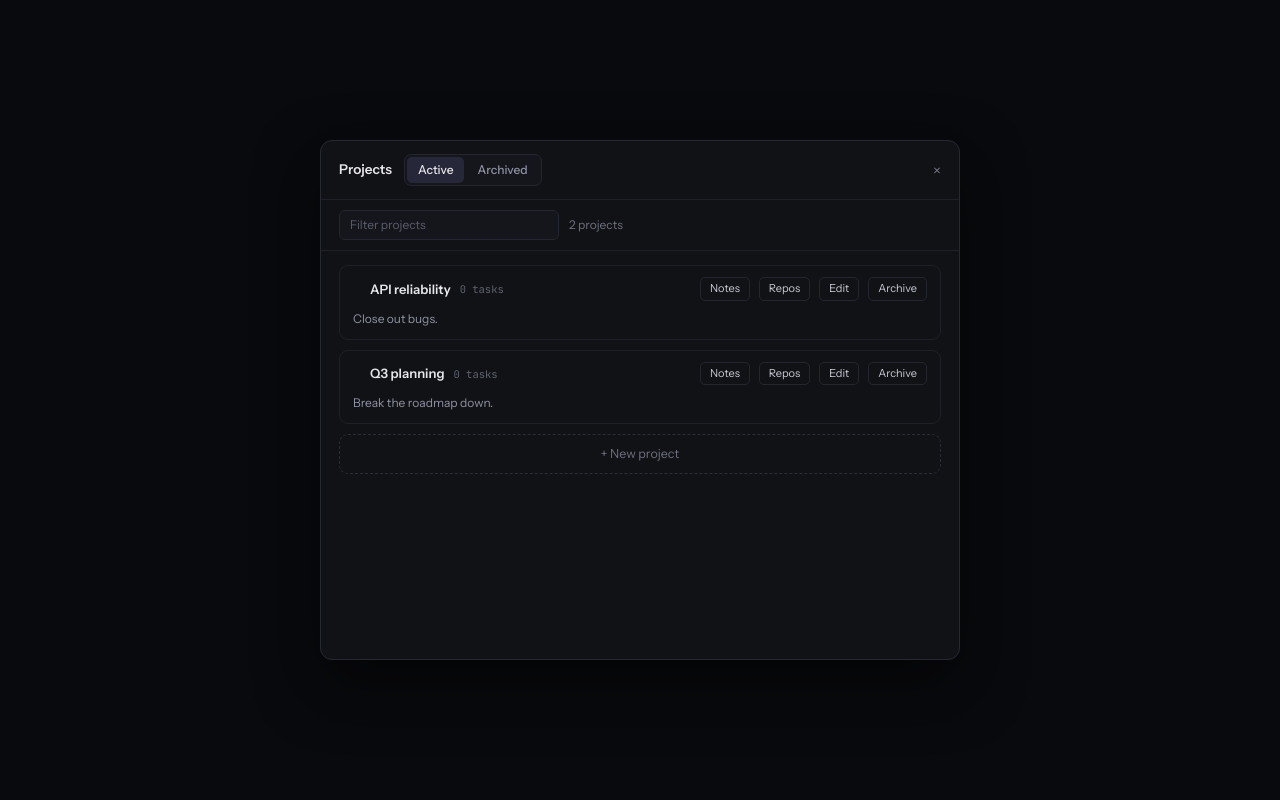
Scenario: the project notes editor › marks the file unsaved once edited, and Save clears it
Click the button "Notes" in the row of "API reliability" at (725, 289), box [700, 277, 750, 301]
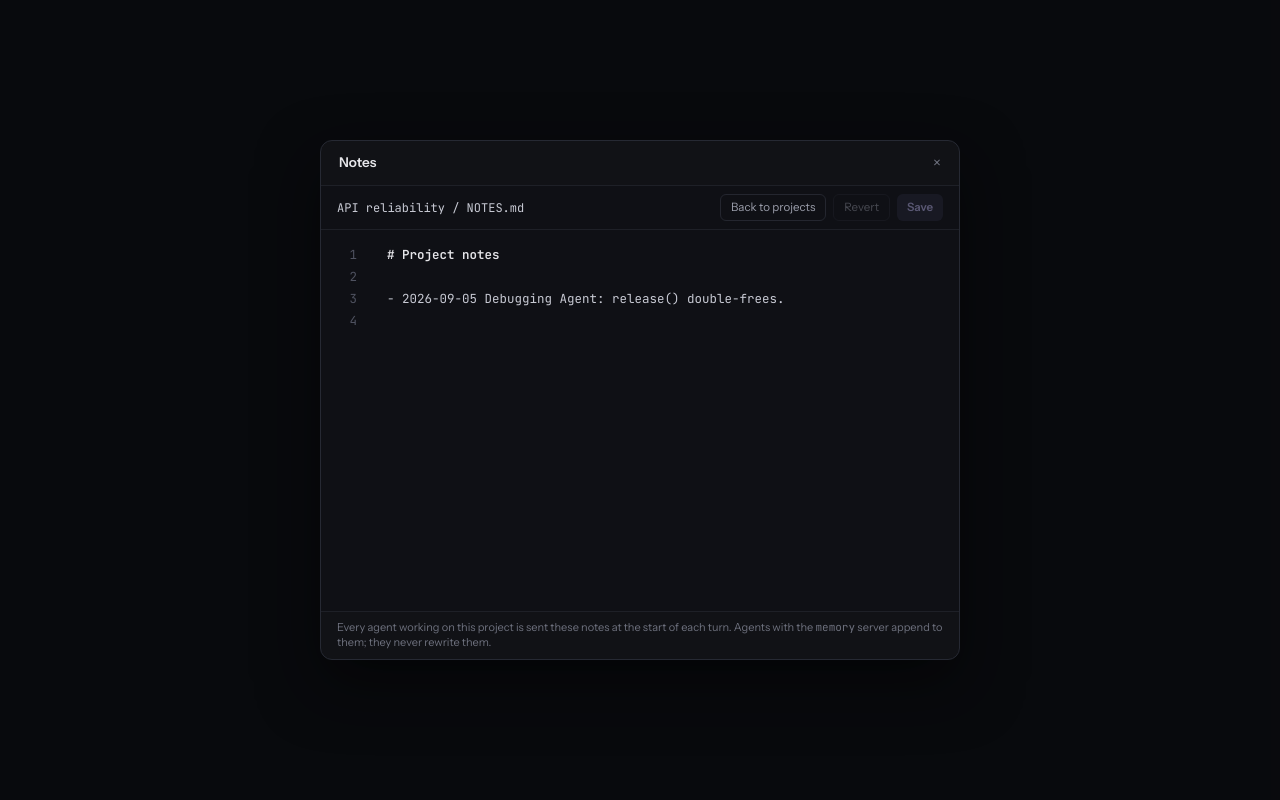
Expected: the text box named "Project notes" is shown
Type "x" into the text box named "Project notes" at (663, 288), box [367, 230, 959, 346]
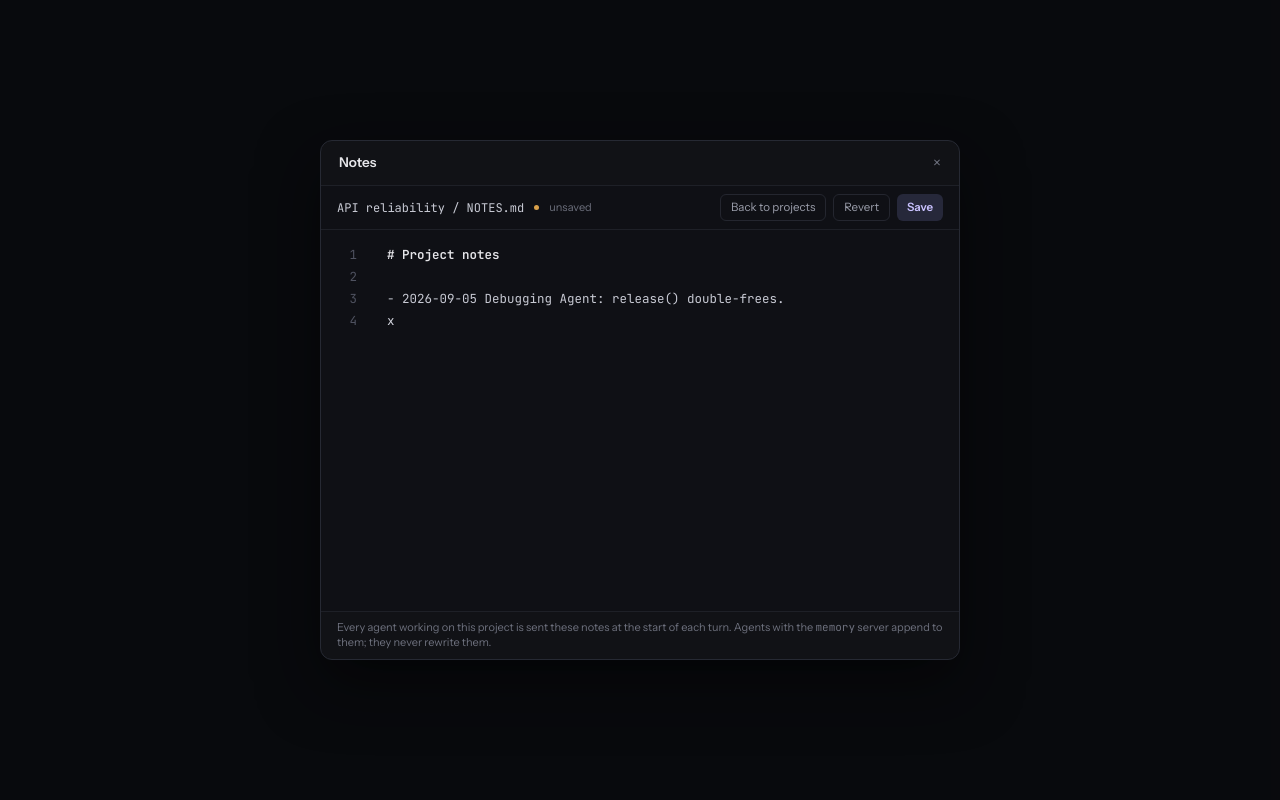
Expected: the text "unsaved" is shown, [549, 200, 592, 216]
Click the button "Save" at (920, 208), box [897, 194, 943, 221]
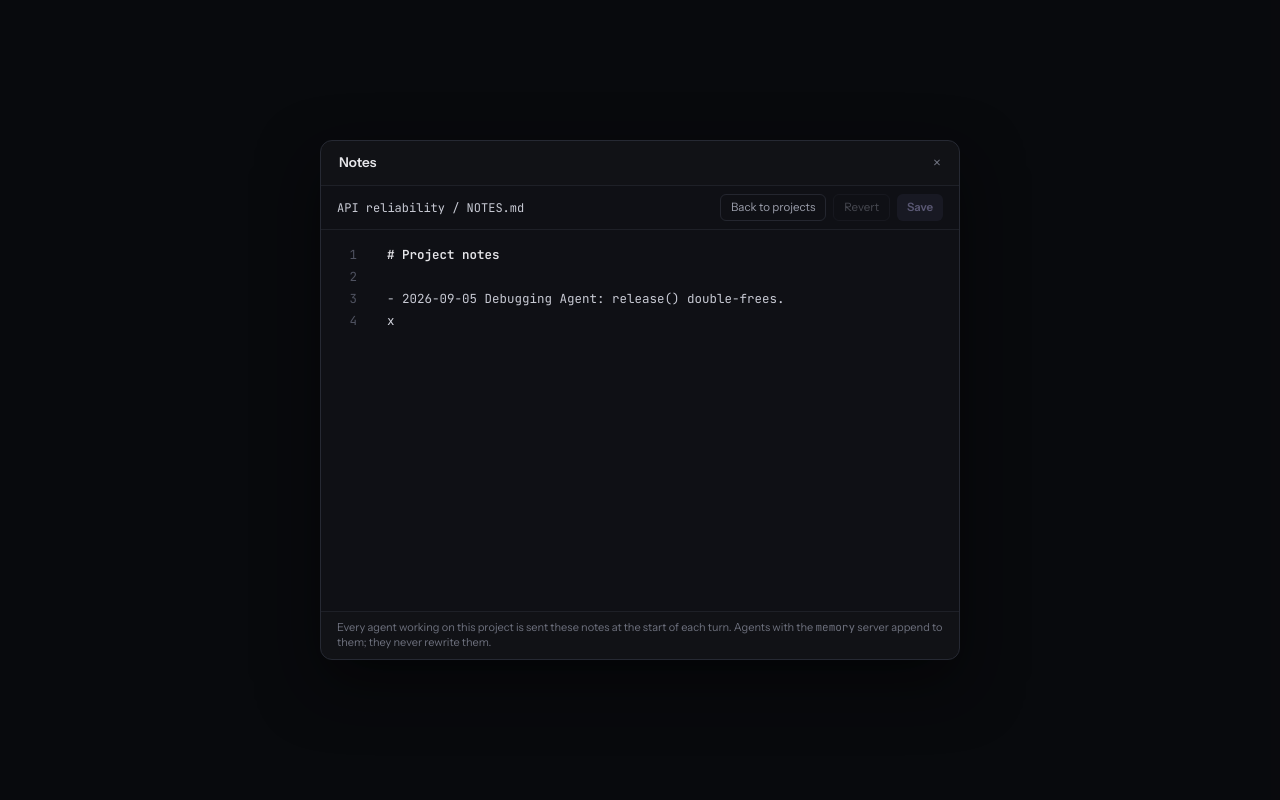
Expected: the text "unsaved" is gone
